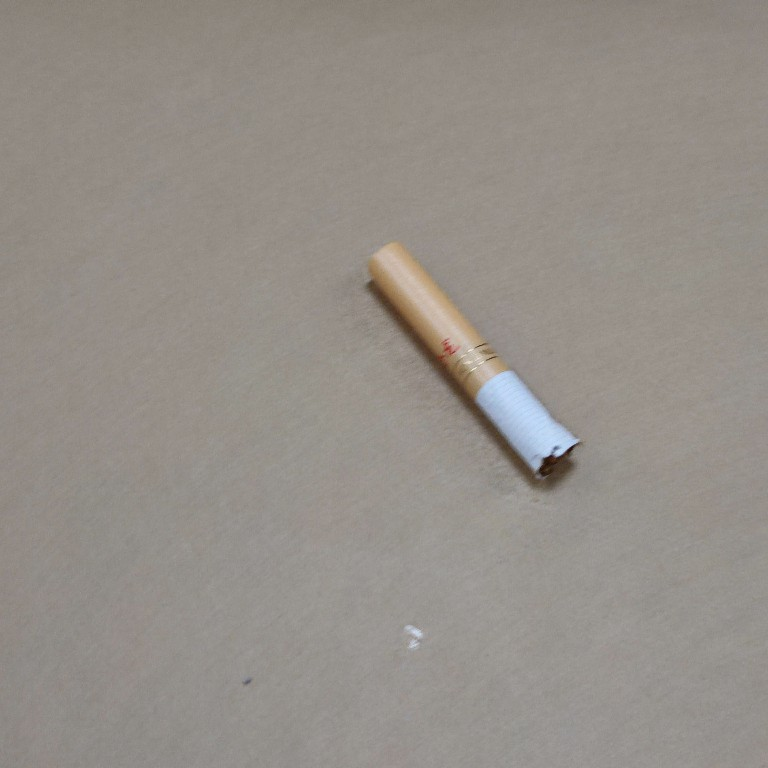cigarette: (360, 236, 586, 491)
